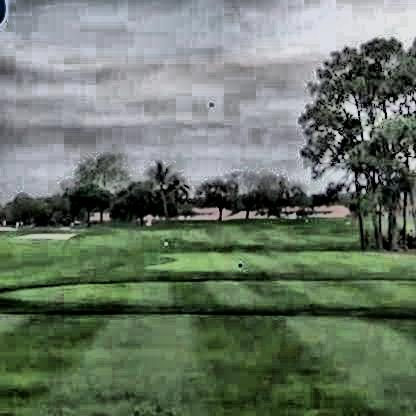golfball: (205, 99, 214, 107)
